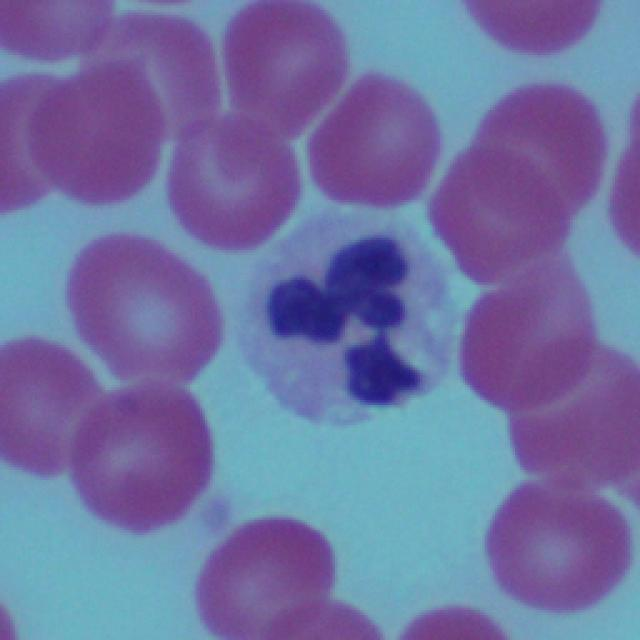RBC: (73, 235, 224, 376), (26, 58, 166, 197), (510, 346, 640, 486), (81, 15, 224, 142), (171, 109, 294, 254), (436, 149, 570, 282), (472, 263, 589, 412), (489, 490, 632, 606), (485, 86, 612, 210), (86, 392, 206, 522), (224, 0, 342, 130), (203, 519, 327, 639), (318, 78, 431, 206), (0, 338, 100, 470)
WBC: (255, 223, 460, 414)
